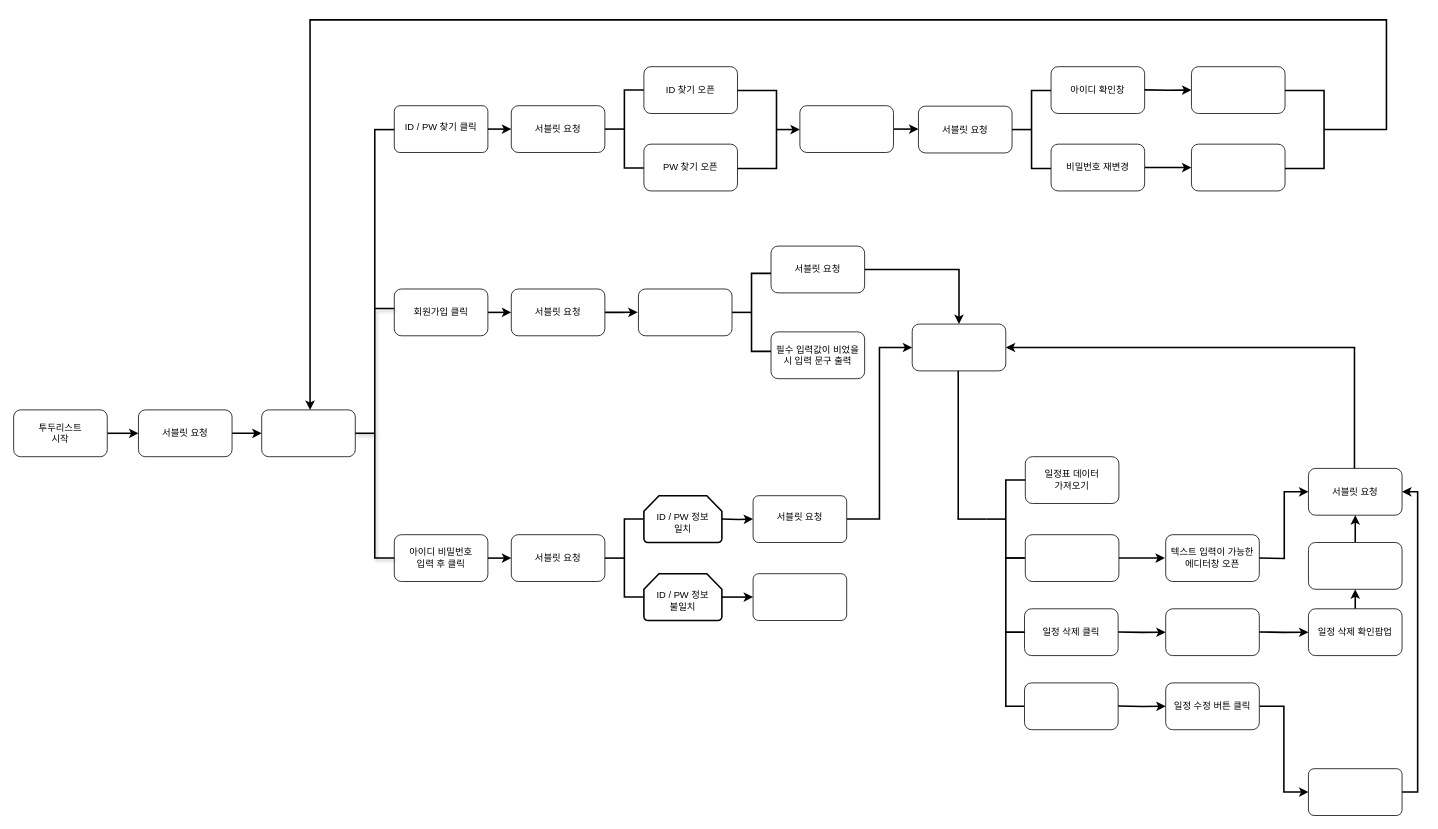
This 1438x829 diagram has some shape labels left out. Here are the shapes that lost their labels. From the top down, the centre of each, then its label:
(x=1238, y=89): 확인버튼 클릭
(x=846, y=128): 이메일 인증
(x=1238, y=167): 서블릿 요청 및 데이터 업데이트
(x=685, y=312): 회원가입 창
(x=958, y=347): 메인화면
(x=308, y=433): 로그인 창 출력
(x=1072, y=557): 일정 추가 버튼 클릭
(x=1355, y=565): 클릭 확인
(x=799, y=596): 불일치 팝업창 확인 버튼 클릭 시 로그인 페이지
(x=1212, y=632): 일정 삭제 버튼 클릭
(x=1071, y=706): 일정 수정 클릭
(x=1355, y=791): 수정 확인
